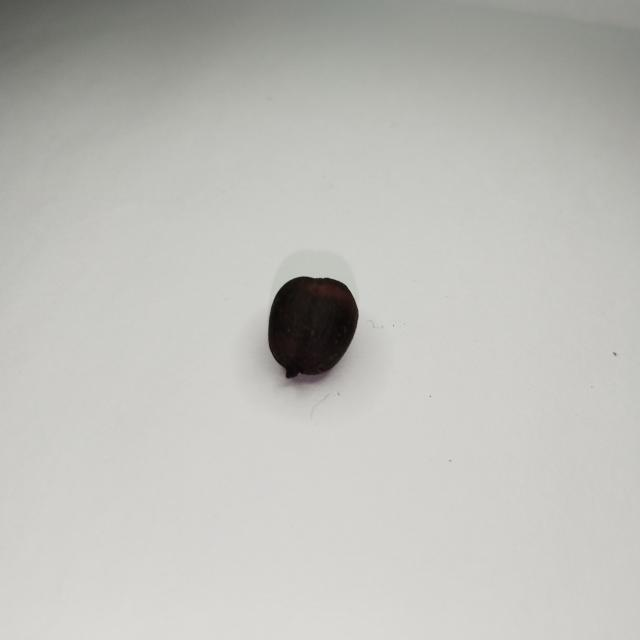Danado: (269, 277, 358, 377)
